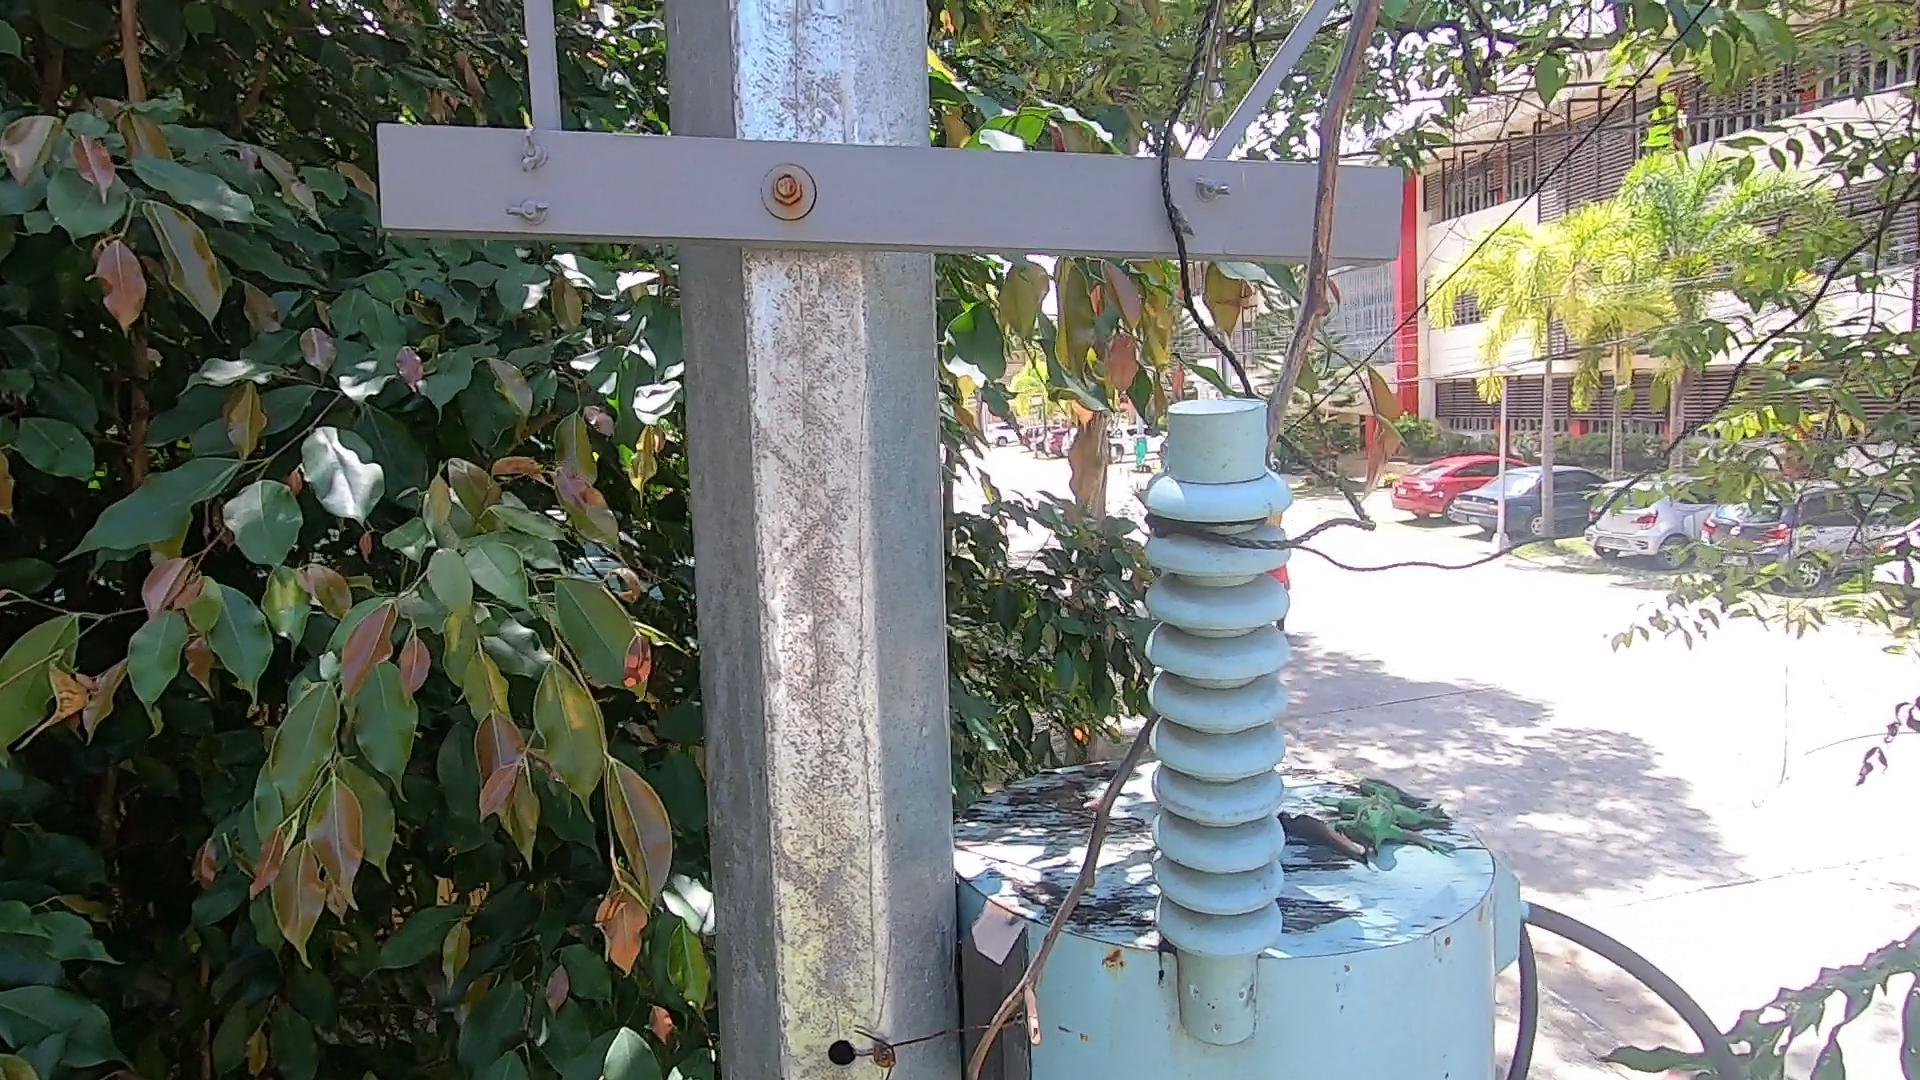branch with leaves: (972, 273, 1436, 512)
leaf: (1276, 808, 1374, 873), (1015, 773, 1106, 825), (1010, 882, 1101, 924)
tree branch: (928, 7, 1340, 1080)
